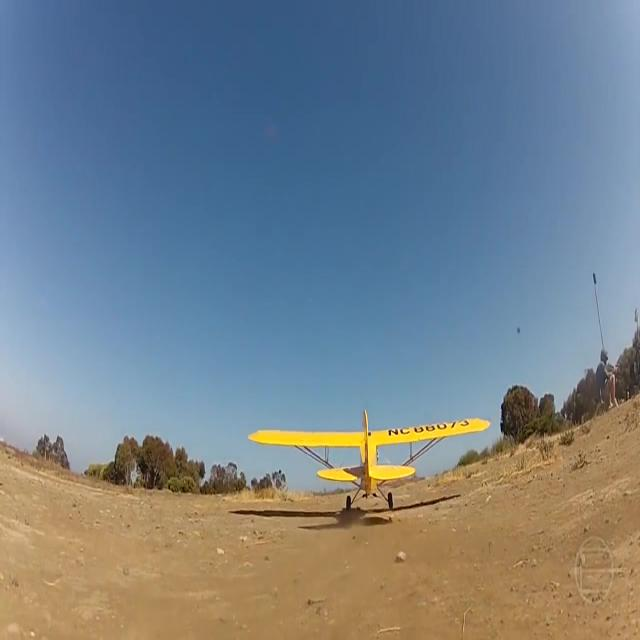iha: (247, 433, 493, 475)
